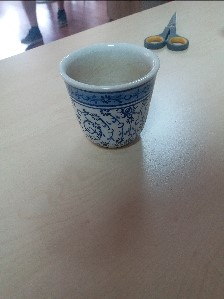cup: (61, 43, 162, 151)
